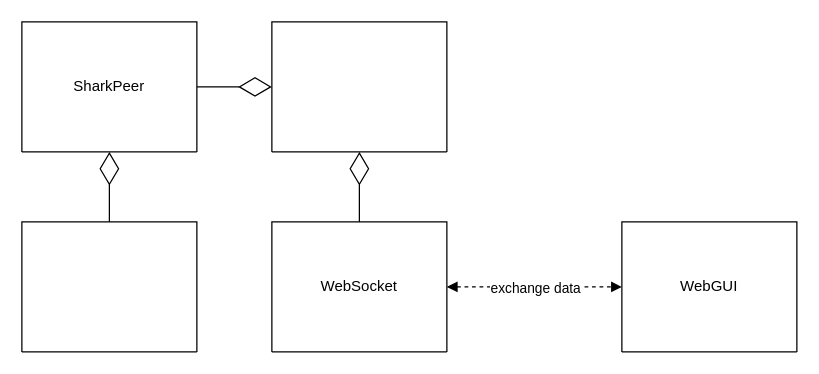
This 819x374 diagram has some shape labels left out. Here are the shapes that lost their labels. From the top down, the box of each, then its label:
(271, 21, 447, 152): MainActivity
(21, 221, 197, 352): SharkPKIComponent
